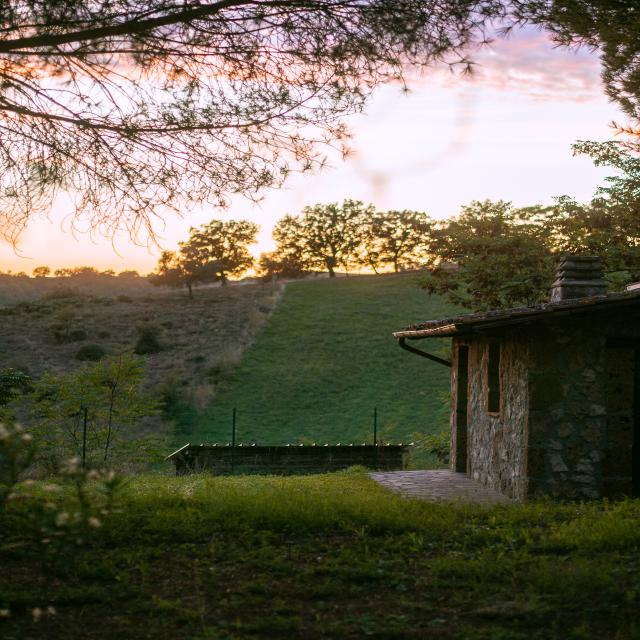building: (396, 286, 640, 497), (164, 442, 414, 471)
